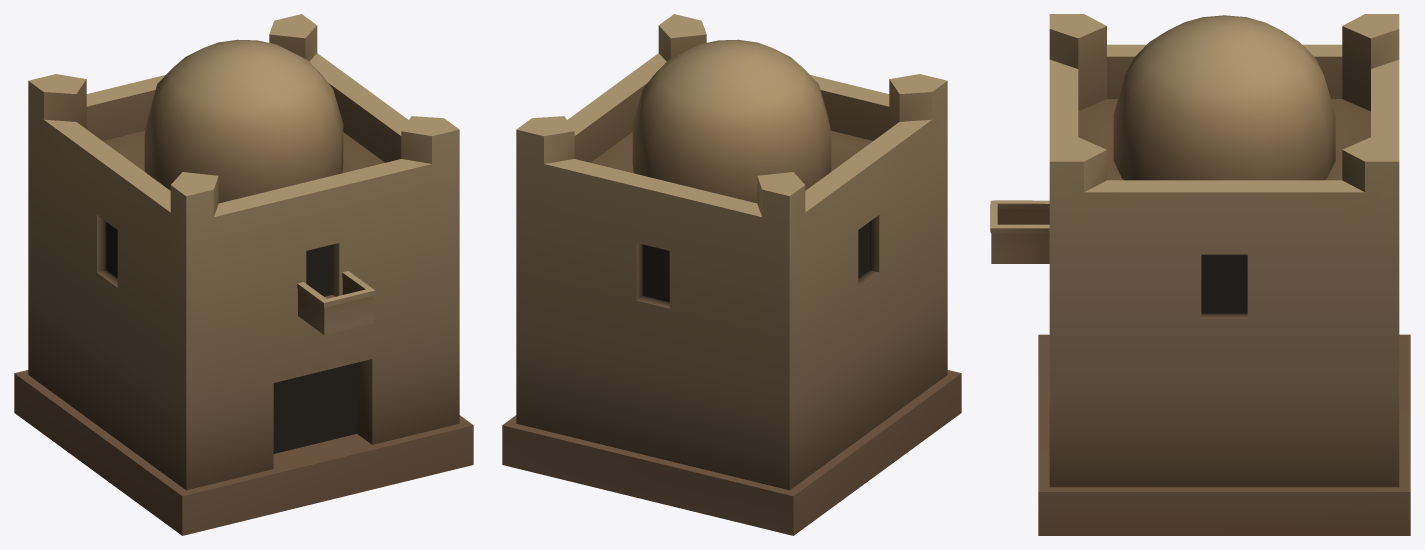
Rendered from Historical_DesertBuildingOld_alt05.glb.
3 renders of one model, left to right at view 1: azimuth 30°, elevation 25°; view 2: azimuth 150°, elevation 25°; view 3: azimuth 270°, elevation 25°, orthographic. The views are drawn at different scales.
Parts seen in each view (by area): view 1: alt5.010; view 2: alt5.010; view 3: alt5.010.
Part boxes in pixels (<box>): alt5.010: <box>14,14,473,535</box>; alt5.010: <box>502,14,961,535</box>; alt5.010: <box>990,14,1410,535</box>.
Bounding box in the file's own units: 12.93 × 16.51 × 14.6.
